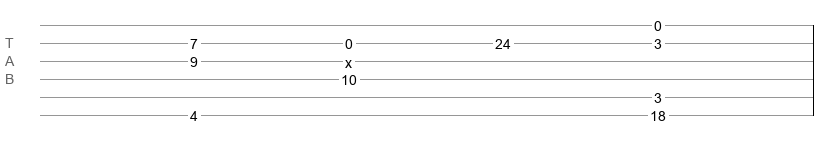0: (345, 36, 353, 46), (654, 18, 662, 28)
10: (341, 72, 357, 82)
18: (650, 108, 666, 118)
24: (495, 36, 511, 46)
3: (654, 90, 662, 100), (654, 36, 662, 46)
4: (190, 108, 198, 118)
7: (190, 36, 198, 46)
9: (190, 54, 198, 64)
x: (345, 55, 352, 63)
